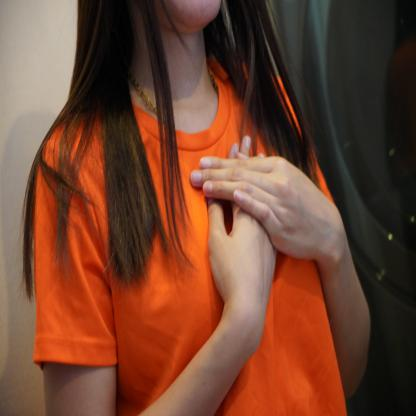Grieve: (188, 136, 347, 302)
